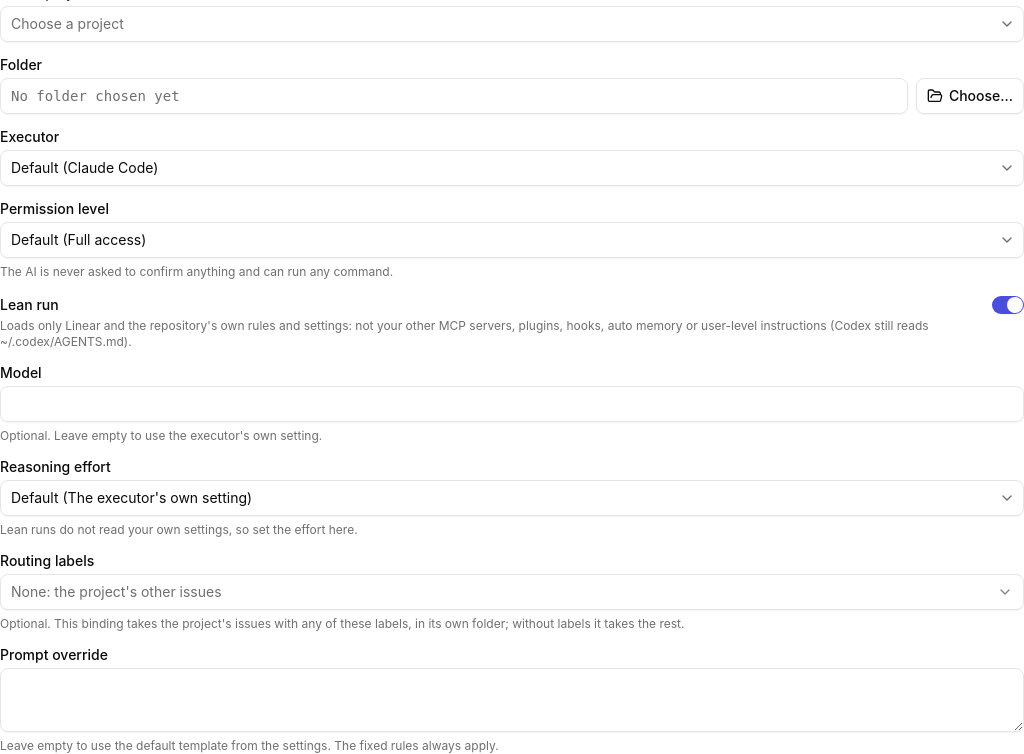
Test: the warning (default full, chosen null, confirmed before: false) is shown: true
The image size is (1024, 754).
Click the dropdown named "Linear project": (67, 24) [0,6,1023,42]
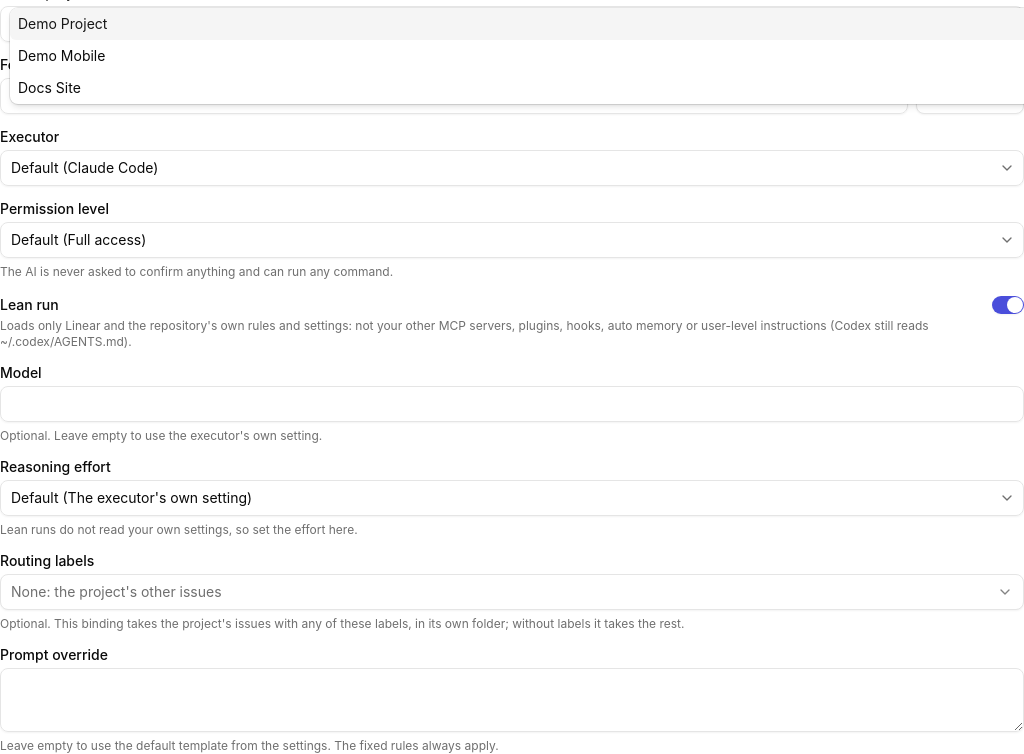
Click the option "Docs Site": (49, 88) [18,79,81,96]
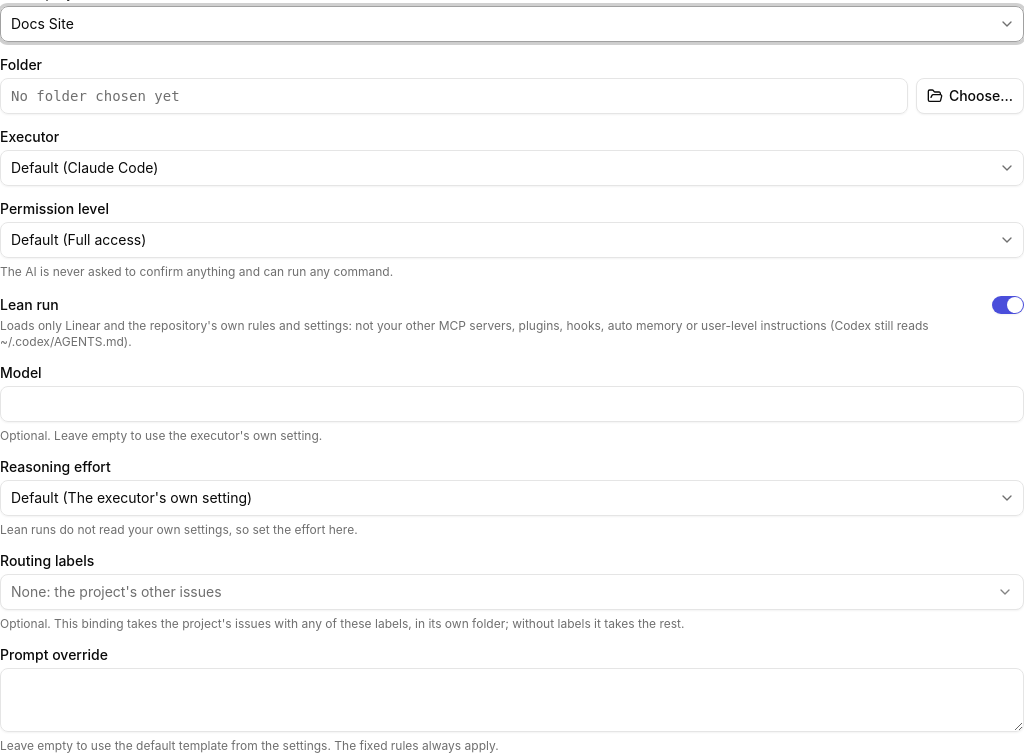
Click the button "Choose…": (970, 96) [916,78,1023,114]
(page scrolled)
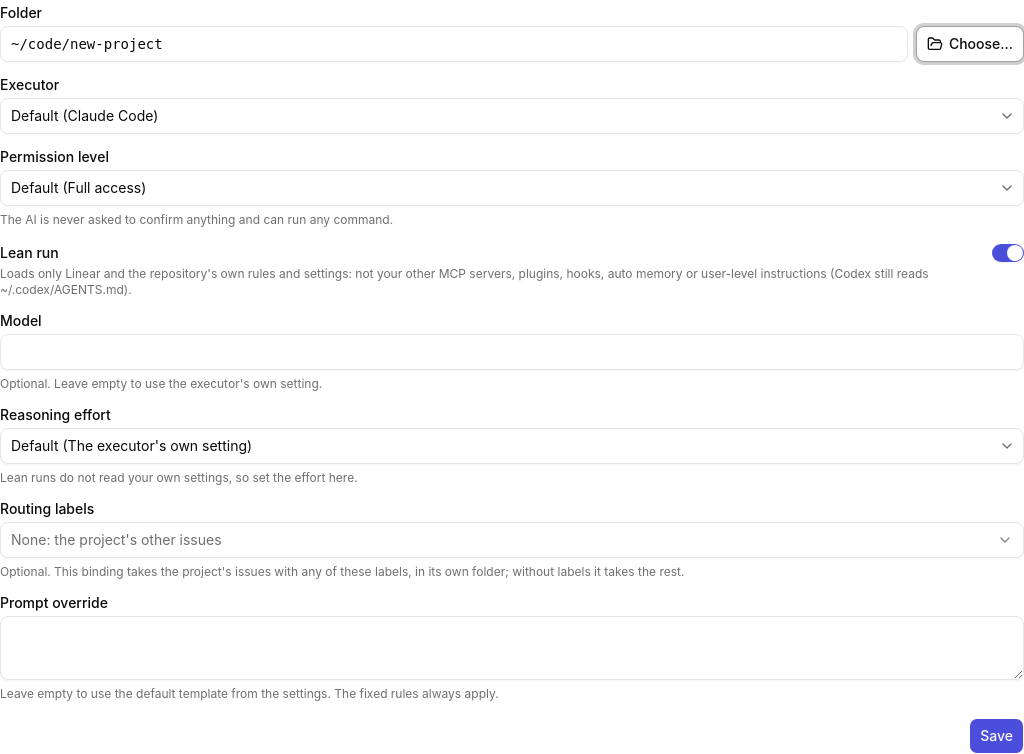
Click the button "Save": (997, 736) [969,718,1023,753]
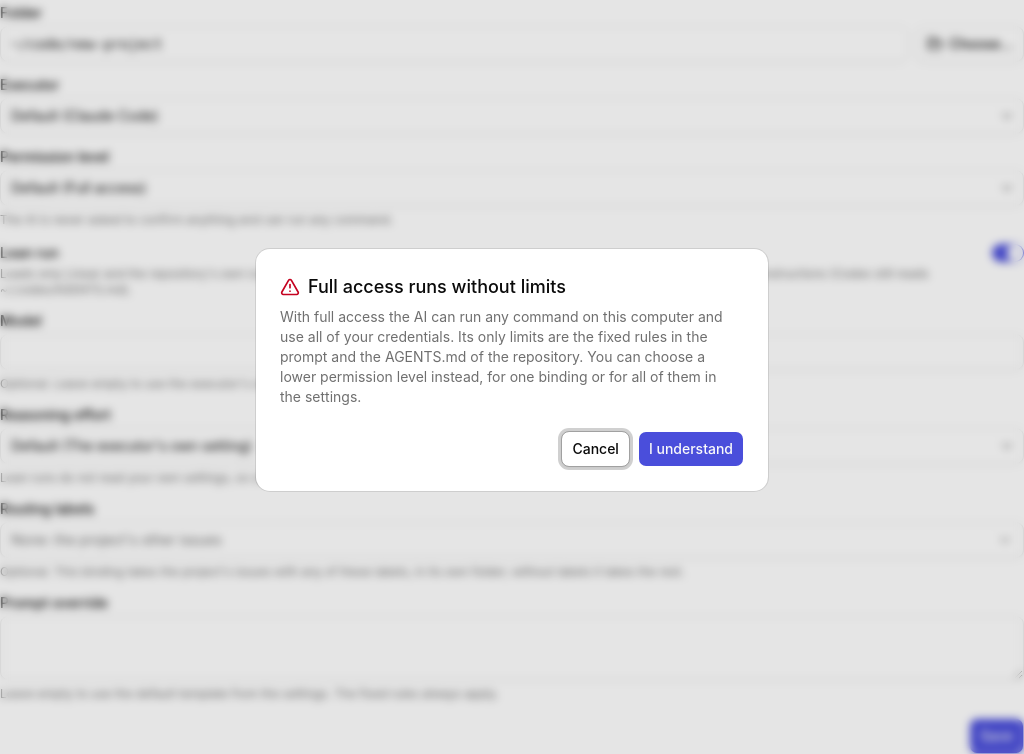
Check: the dialog is shown, box [256,249,768,491]
